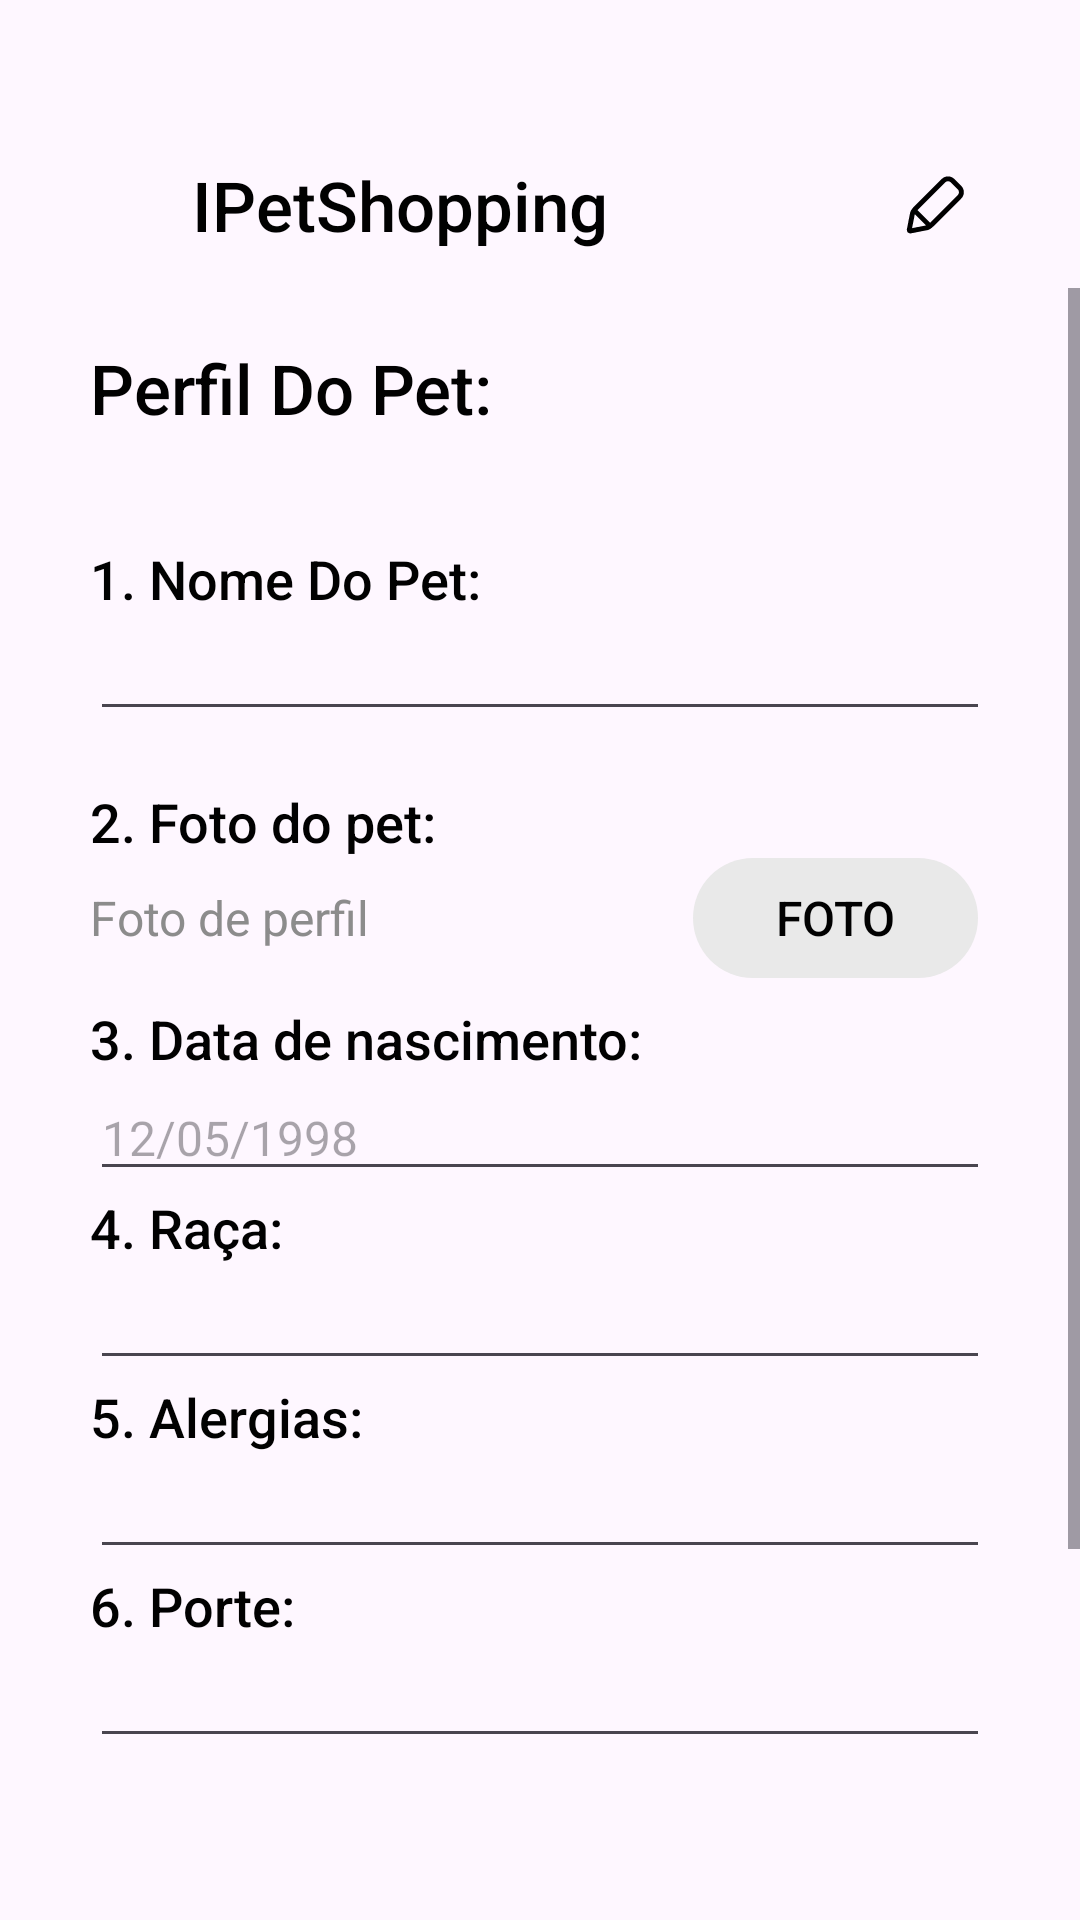

Icon click points for this 1080w x 1920h phone screenshot, format [x,y]:
edit pen: [935,205]
